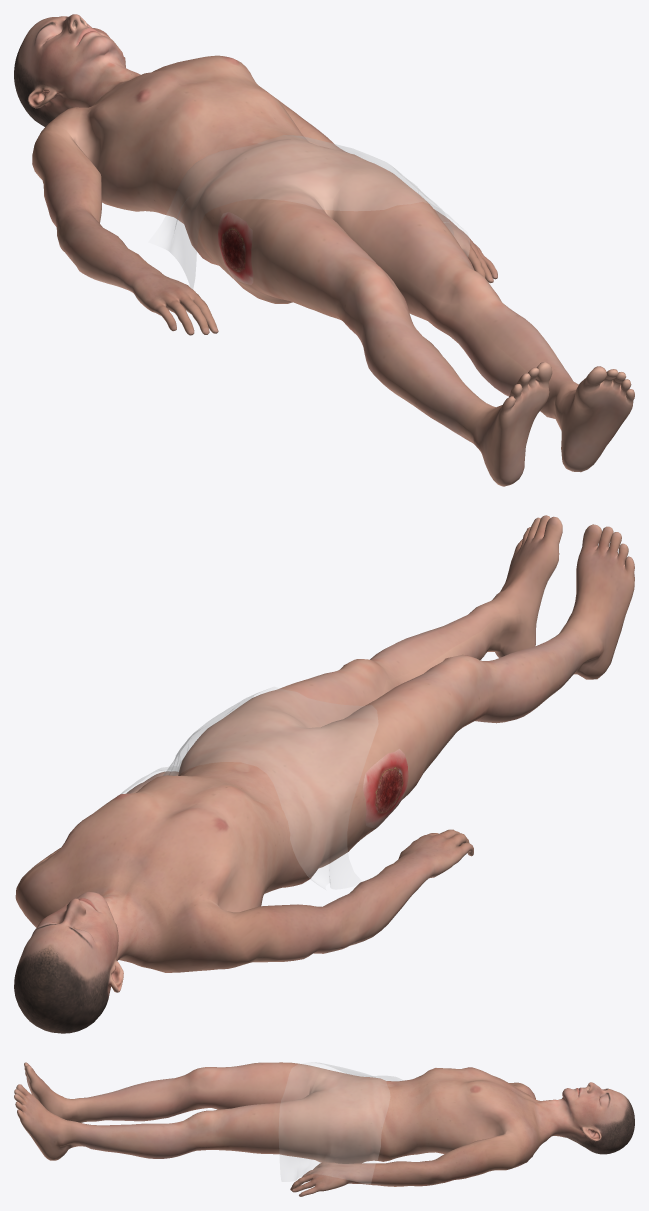
The model's file is CorpoFerida.fbx.
3 renders of one model, top to bottom at view 1: azimuth 30°, elevation 25°; view 2: azimuth 150°, elevation 25°; view 3: azimuth 270°, elevation 25°, orthographic. The views are drawn at different scales.
Visible parts, largest first — view 1: CorpoFerida; view 2: CorpoFerida; view 3: CorpoFerida.
Part boxes in pixels (x1,y1,x2,y2): CorpoFerida: (14,14,634,486); CorpoFerida: (14,515,634,1033); CorpoFerida: (14,1062,634,1196).
Bounding box in the file's own units: 64.25 × 26.97 × 186.
